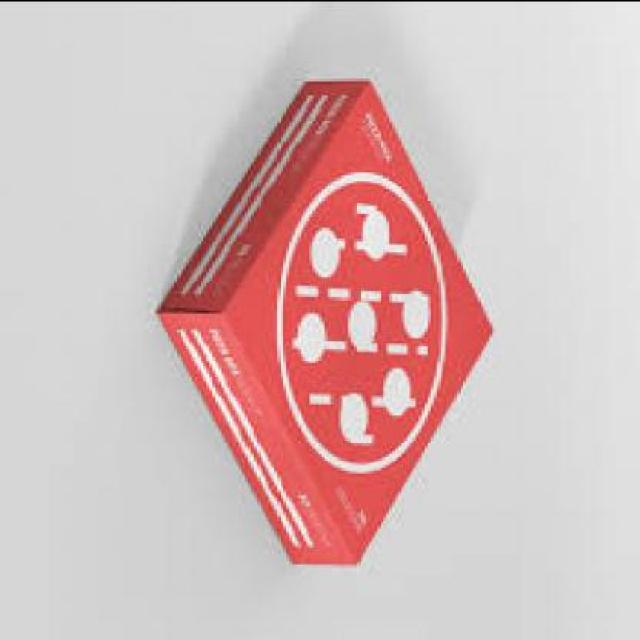CARDBOARD: (160, 77, 498, 563)
